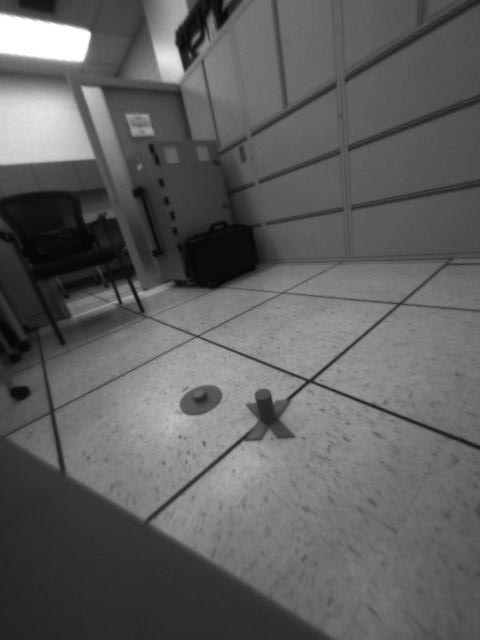X: (241, 388, 296, 442)
